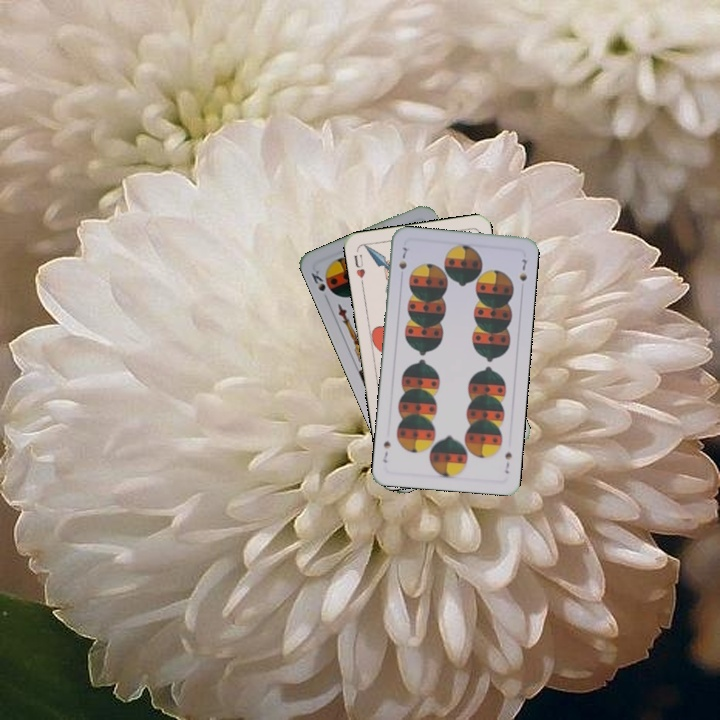HU: (350, 250, 368, 288)
S7: (395, 243, 410, 272), (500, 448, 515, 476)
SK: (307, 266, 331, 304)
